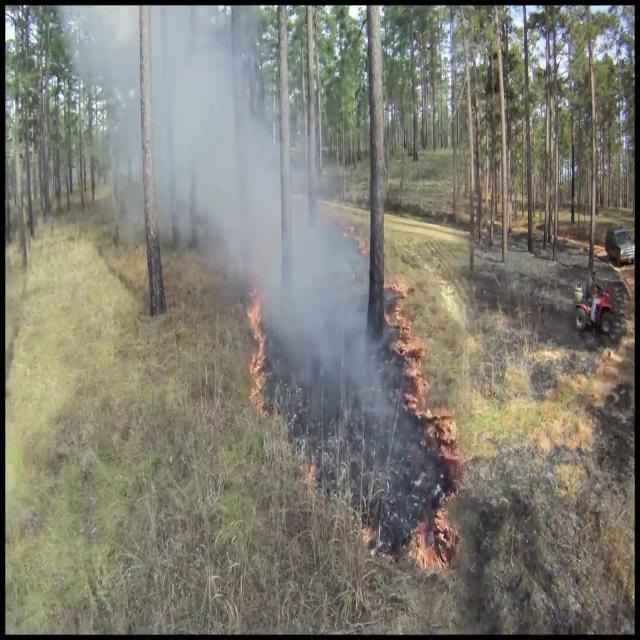Fire: (406, 500, 460, 575), (242, 282, 272, 412)
Smoke: (96, 6, 266, 300), (274, 121, 398, 491)
